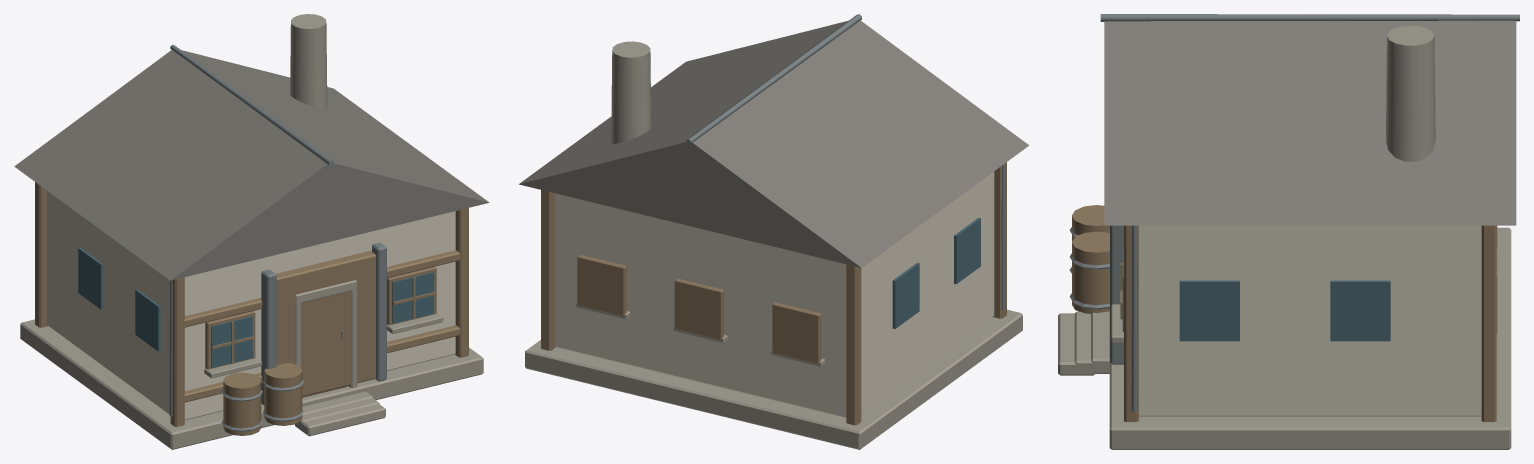
Rendered from bld_entrepot_a01.glb.
The picture shows the model from 3 angles, left to right: view 1: azimuth 30°, elevation 25°; view 2: azimuth 150°, elevation 25°; view 3: azimuth 270°, elevation 25°; orthographic projection. The views are drawn at different scales.
Visible parts, largest first — view 1: bld_entrepot_a01; view 2: bld_entrepot_a01; view 3: bld_entrepot_a01.
Boxes of the visible parts, left/top/right/bottom form: bld_entrepot_a01: left=14, top=14, right=489, bottom=449; bld_entrepot_a01: left=519, top=14, right=1028, bottom=449; bld_entrepot_a01: left=1058, top=14, right=1519, bottom=449.
Size of the model in its own units: 3.88 by 3.31 by 3.68.
